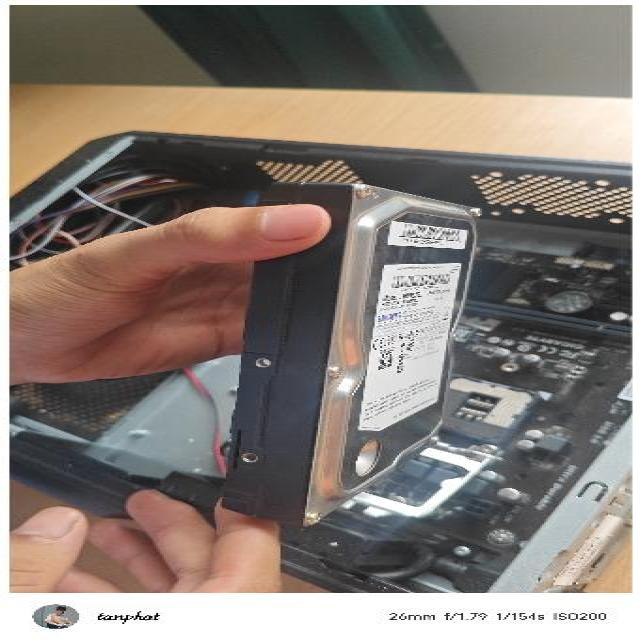DISK: (219, 178, 487, 526)
